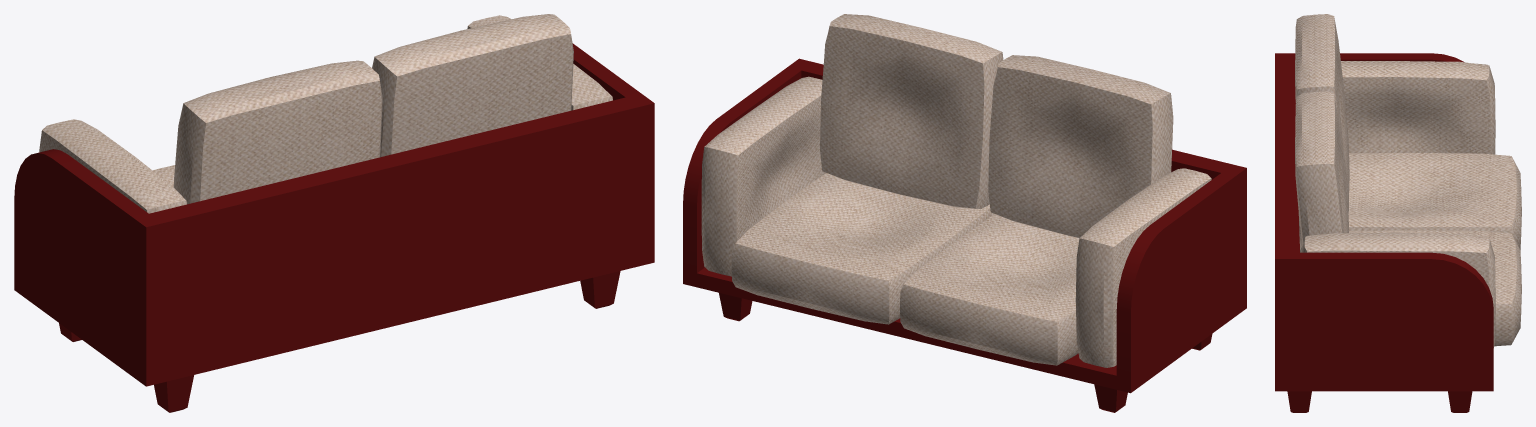
The model's file is furniture_seating_210075.glb.
3 views of the same model, side by side, from view 1: azimuth 30°, elevation 25°; view 2: azimuth 150°, elevation 25°; view 3: azimuth 270°, elevation 25° (orthographic). The views are drawn at different scales.
Parts seen in each view (by area): view 1: furniture_seating_210075; view 2: furniture_seating_210075; view 3: furniture_seating_210075.
Part boxes in pixels (x1,y1,x2,y2): furniture_seating_210075: (14, 14, 654, 412); furniture_seating_210075: (683, 14, 1246, 412); furniture_seating_210075: (1275, 14, 1521, 412).
Size of the model in its own units: 1.61 by 0.8773 by 0.8179.
Materials: 1 (1 with a texture image).
